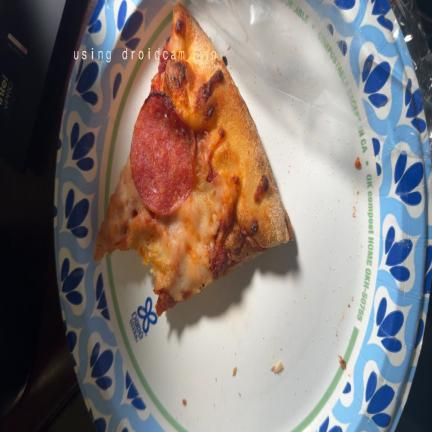pizza: (95, 4, 292, 314)
